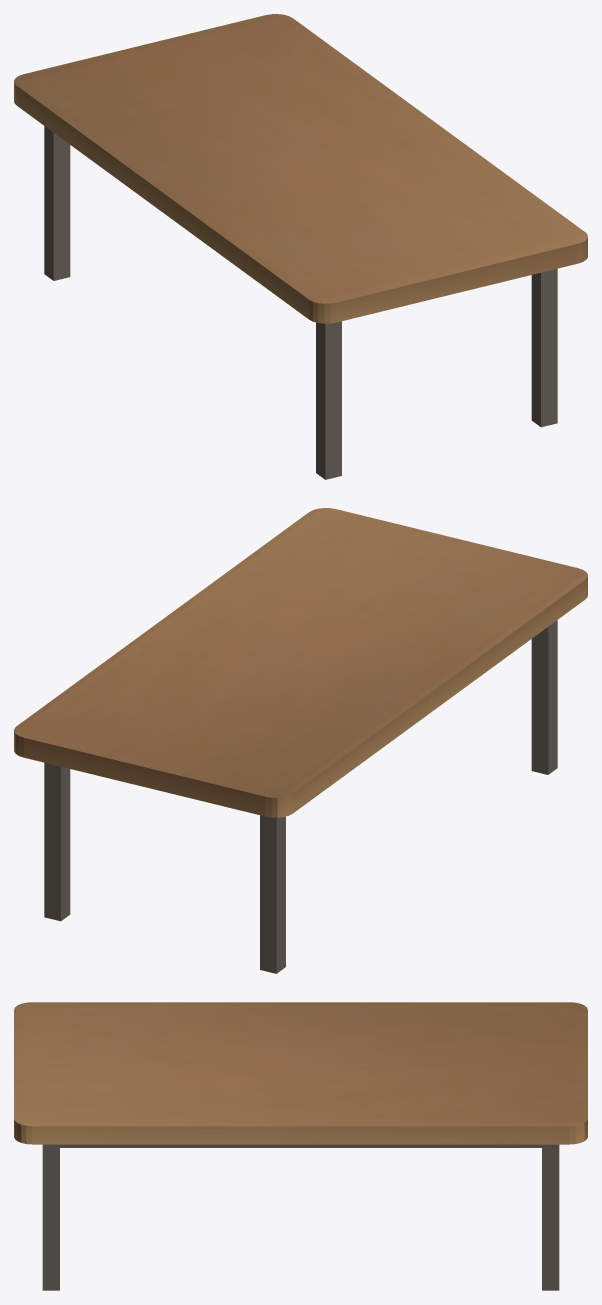
The model's file is table.fbx.
3 views of the same model, one above another, from view 1: azimuth 30°, elevation 25°; view 2: azimuth 150°, elevation 25°; view 3: azimuth 270°, elevation 25° (orthographic). The views are drawn at different scales.
Visible parts, largest first — view 1: Cube; view 2: Cube; view 3: Cube.
Boxes of the visible parts, box(x1,y1,x2,y2) form: Cube: box(14, 14, 587, 479); Cube: box(14, 508, 587, 973); Cube: box(14, 1002, 587, 1290).
Bounding box in the file's own units: 409 × 269 × 802.
